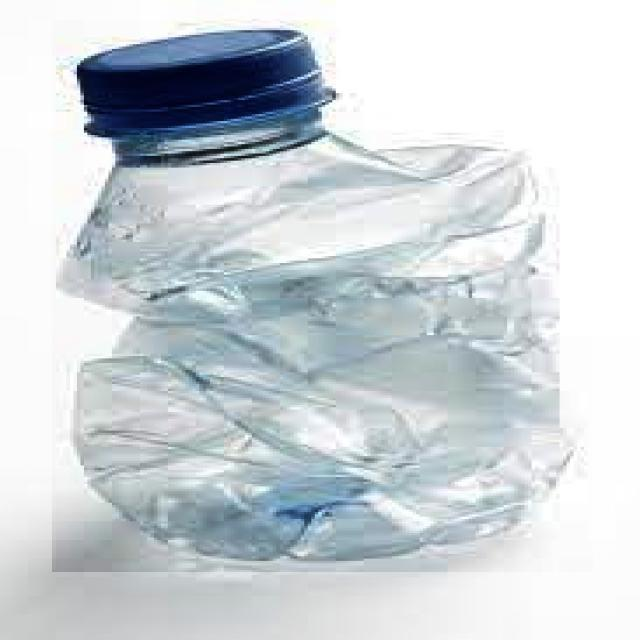BIODEGRADABLE: (52, 20, 593, 572)
